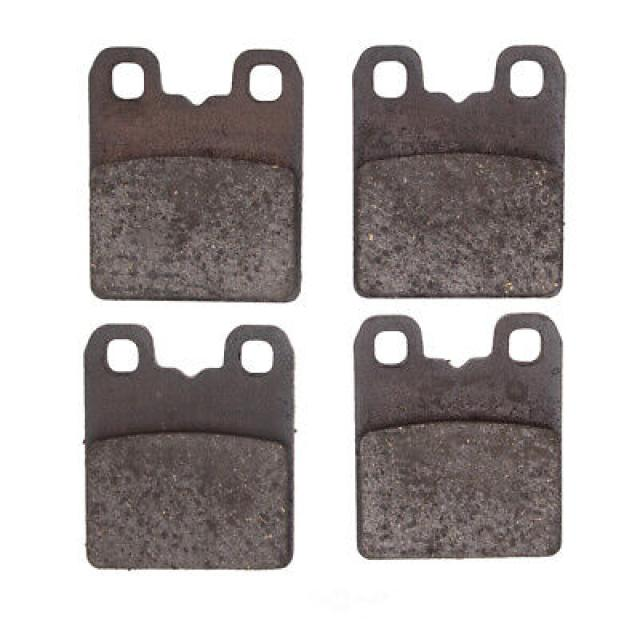brake_pad: (74, 18, 323, 315), (74, 320, 322, 580), (344, 31, 567, 300), (348, 311, 575, 566)
